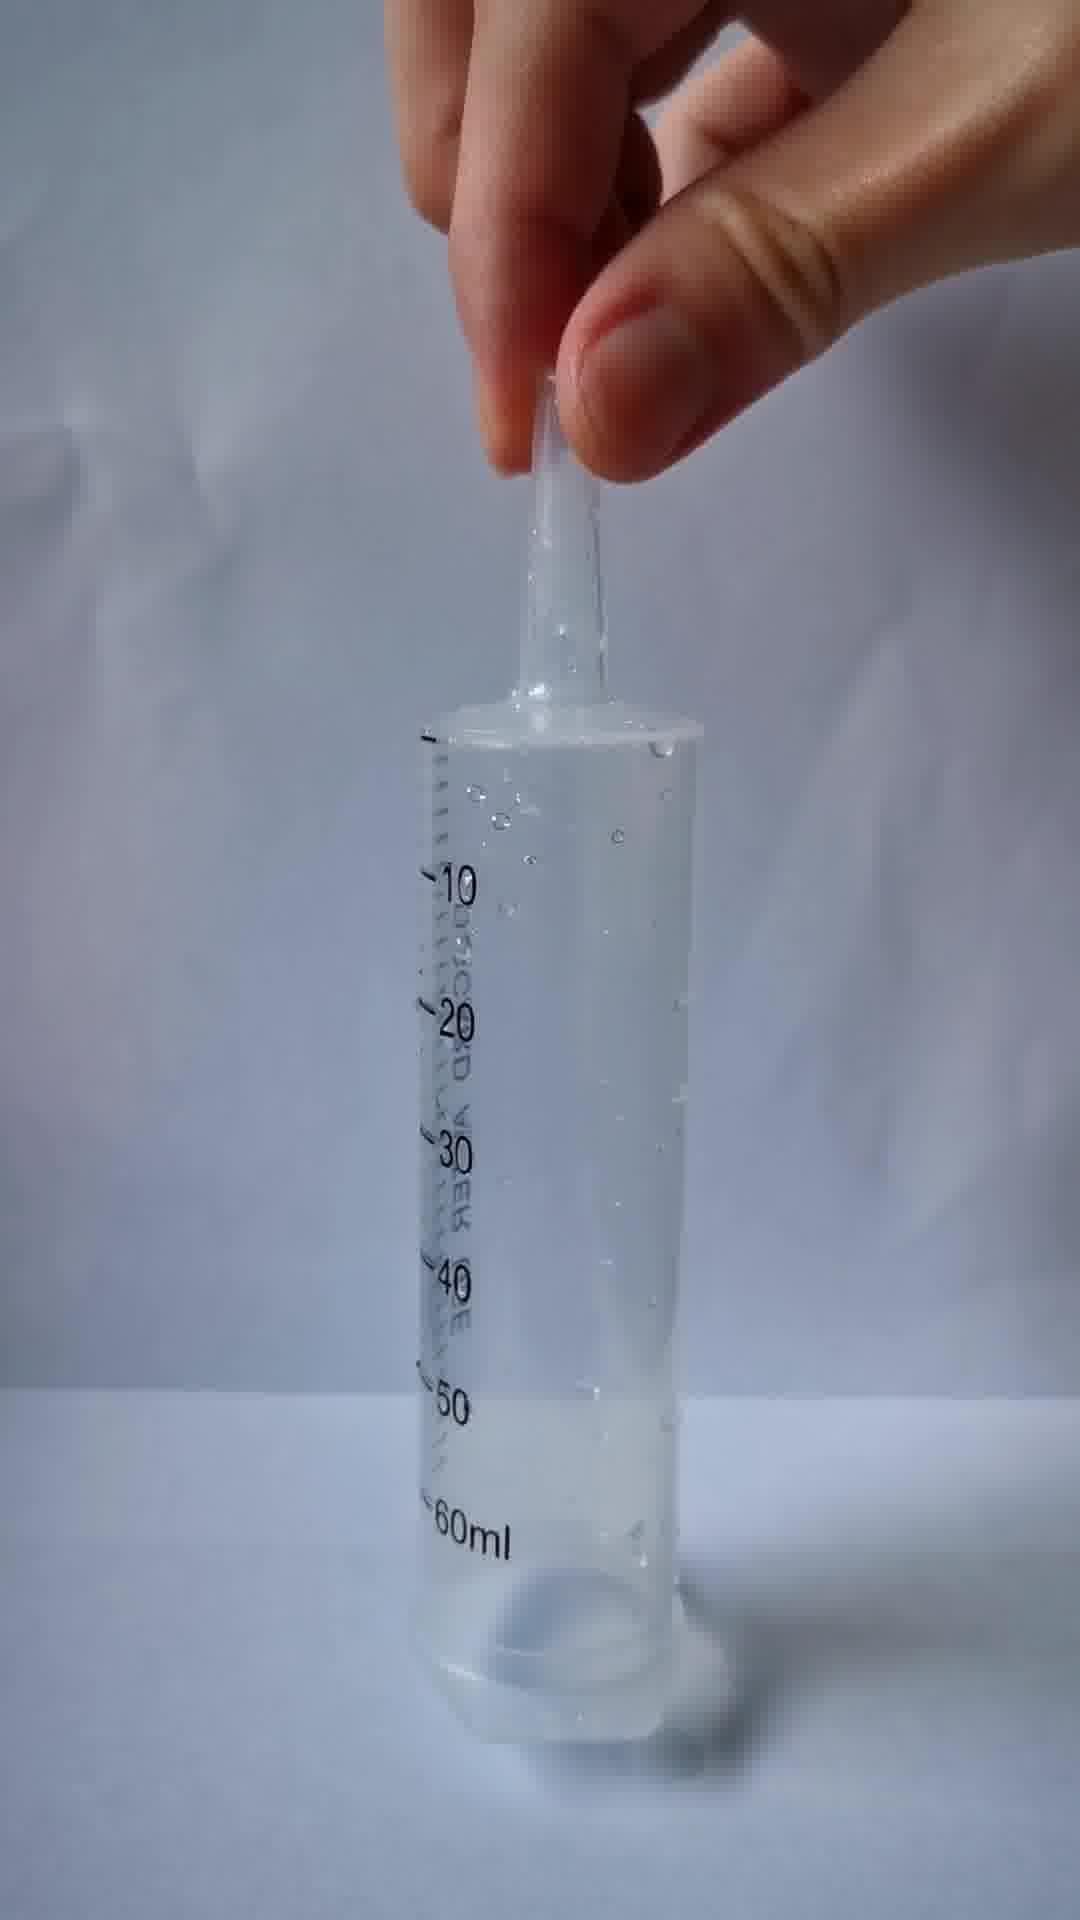syringe: (398, 373, 717, 1754)
